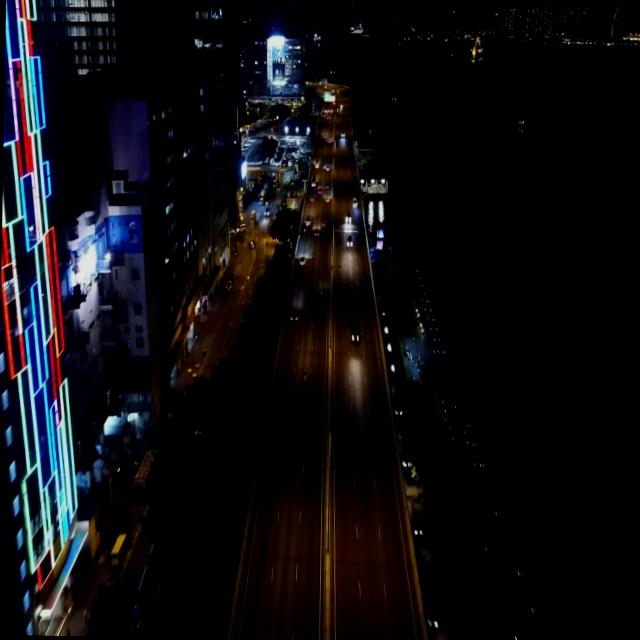bike: (302, 366, 306, 383), (309, 194, 313, 204), (319, 286, 323, 296), (303, 225, 306, 233)
bus: (109, 532, 129, 566)
car: (350, 320, 360, 346), (289, 304, 299, 323), (345, 232, 354, 250), (345, 208, 352, 224), (305, 212, 312, 228), (224, 278, 232, 292), (298, 255, 306, 268), (310, 174, 317, 188), (314, 156, 320, 170), (324, 191, 330, 204), (313, 226, 319, 237), (263, 207, 270, 216), (320, 216, 326, 226), (323, 180, 329, 190), (324, 164, 330, 172), (352, 196, 356, 207), (318, 186, 322, 195), (340, 130, 344, 138), (327, 138, 331, 144), (322, 132, 326, 138), (320, 112, 324, 117), (326, 115, 329, 120)
truck: (258, 188, 266, 208)
